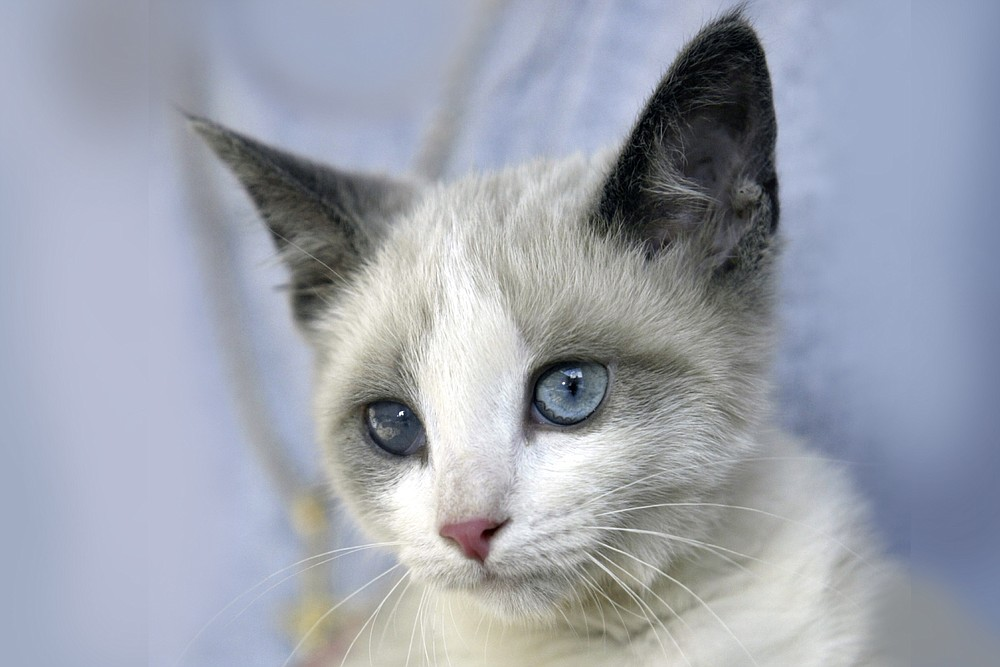cat: (140, 3, 893, 619)
